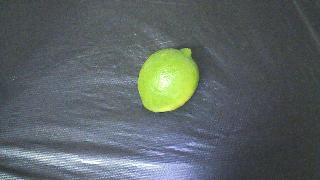LOCAL: (138, 48, 199, 112)
